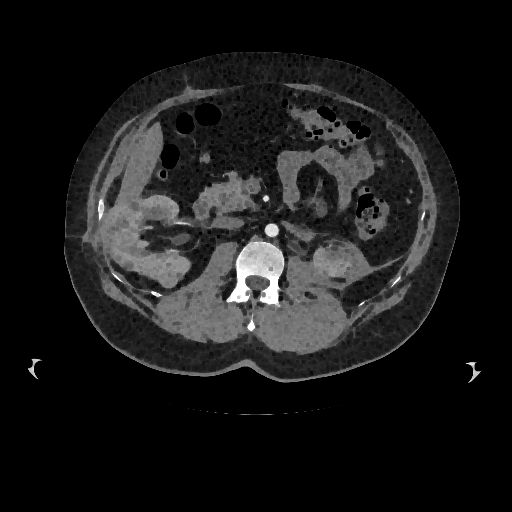Lesion: (155, 271, 179, 291)
